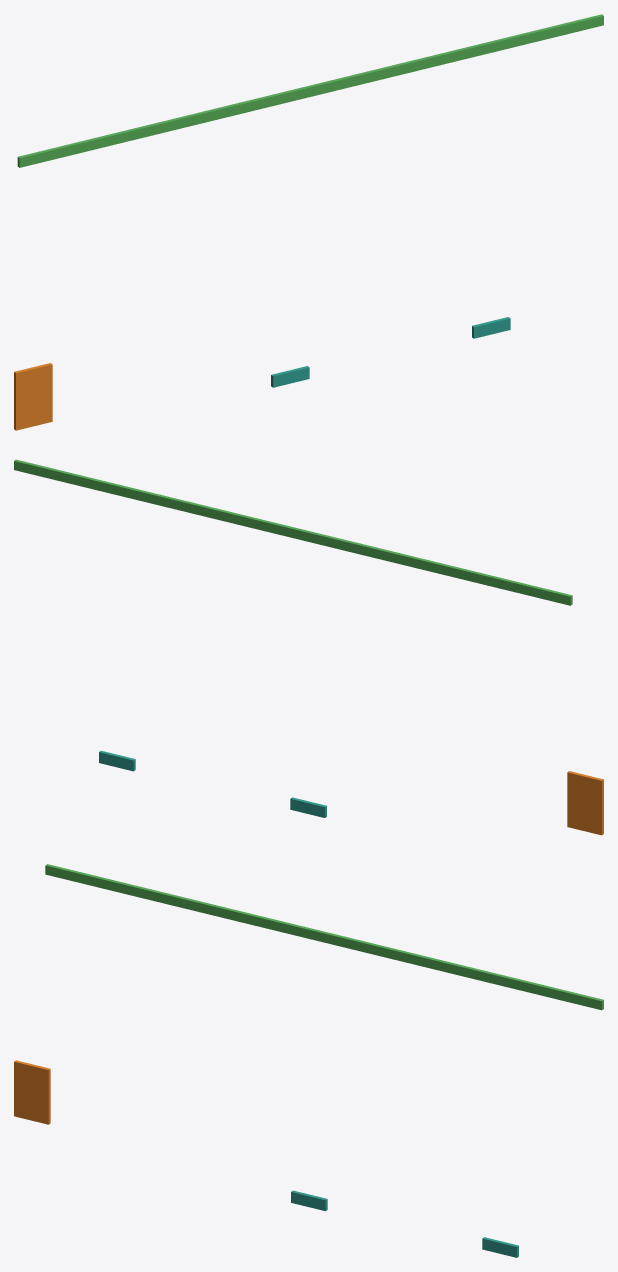
The model's file is oil_mist_lubrication_system_pressure.glb.
The picture shows the model from 3 angles, top to bottom: view 1: azimuth 30°, elevation 25°; view 2: azimuth 150°, elevation 25°; view 3: azimuth 330°, elevation 25°; orthographic projection. The views are drawn at different scales.
Visible parts, largest first — view 1: pressure__front; view 2: pressure__front; view 3: pressure__front.
Boxes of the visible parts, x1,y1,x2,y2 form: pressure__front: (14,14,603,430); pressure__front: (14,459,603,835); pressure__front: (14,864,603,1257).
Bounding box in the file's own units: 3.3 × 1.53 × 0.18.
